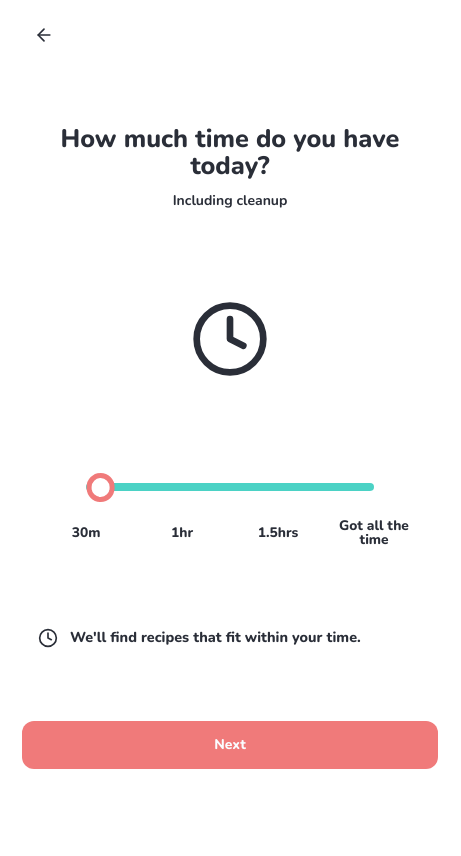
MealPlanning recipe generation locking › persists generated tickets against the saved staple pantry basis before profile refetch settles
Step 1. Click the button "Next" → (230, 745), box [22, 721, 438, 769]
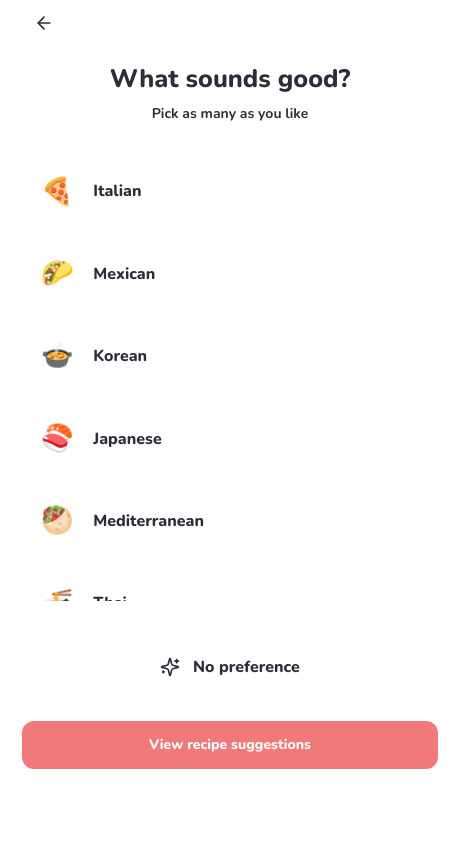
Expected: the heading "What sounds good?" is shown, [110, 61, 350, 96]
Step 2. Click the button "🌮 Mexican" → (57, 273), box [22, 239, 436, 309]
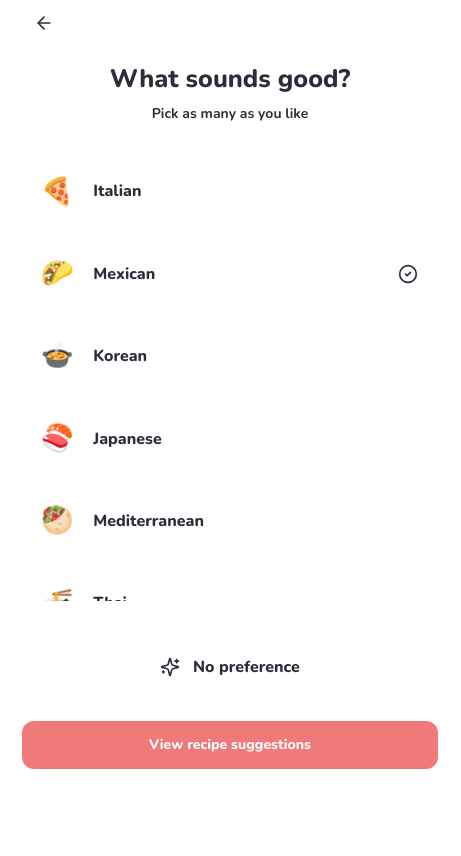
Step 3. Click the button "🥙 Mediterranean" → (57, 520), box [22, 486, 436, 556]
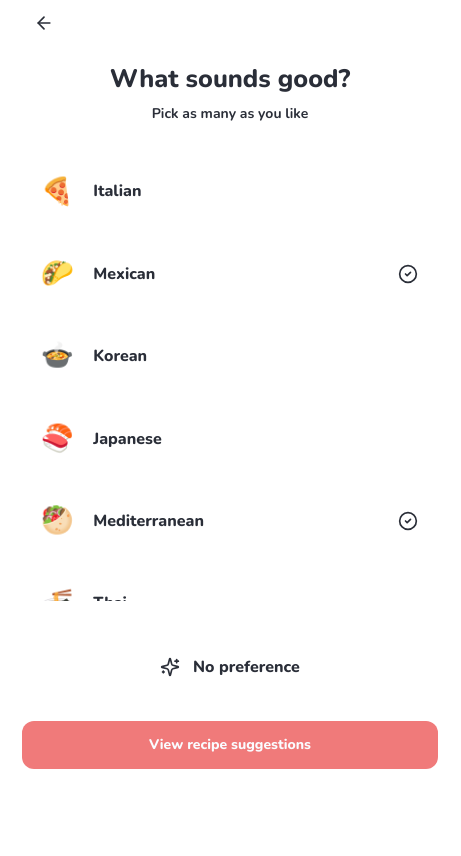
Step 4. Click the button "View recipe suggestions" → (230, 745), box [22, 721, 438, 769]
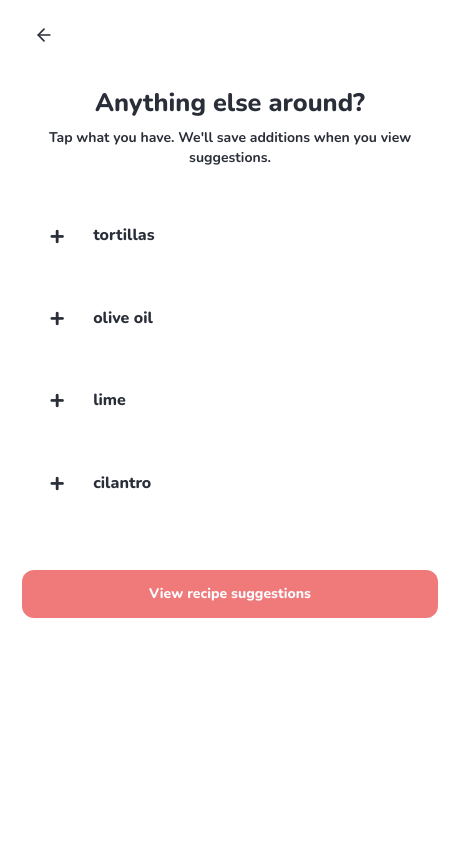
Expected: the heading "Anything else around?" is shown, [95, 85, 365, 120]
Expected: the text "We'll save additions when you view suggestions" is shown, [49, 128, 411, 167]
Step 5. Click the button "+ tortillas" → (124, 235), box [22, 200, 438, 271]
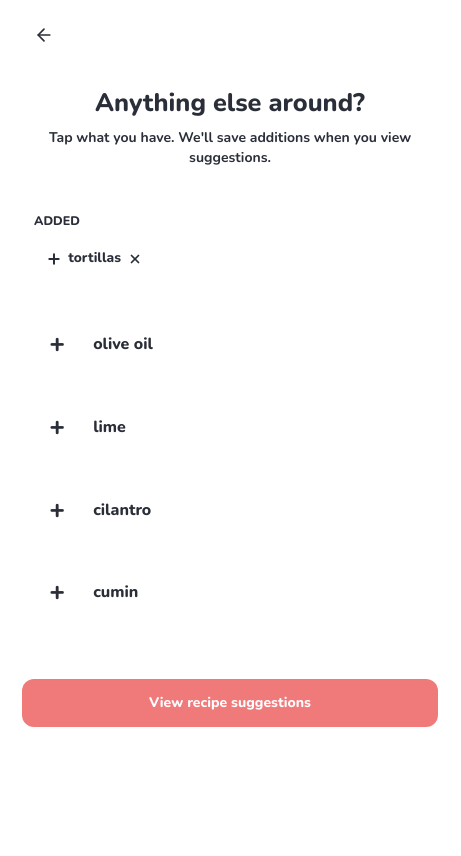
Step 6. Click the button "View recipe suggestions" → (230, 703), box [22, 679, 438, 727]
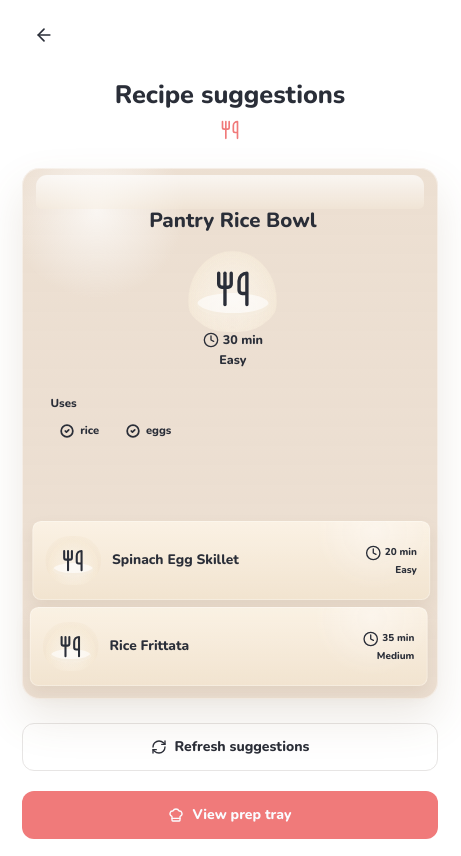
Expected: the heading "Recipe suggestions" is shown, [115, 77, 345, 112]
